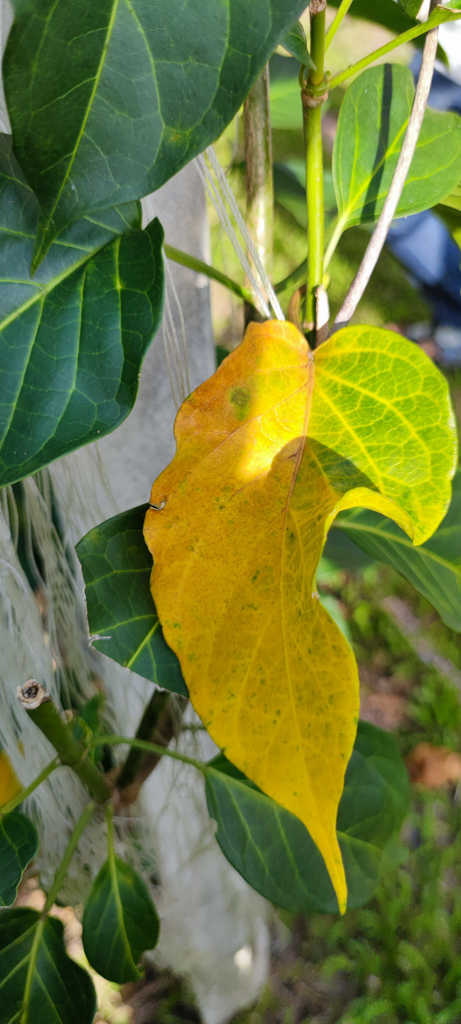Pepper yellow leaf: (152, 317, 453, 922)
